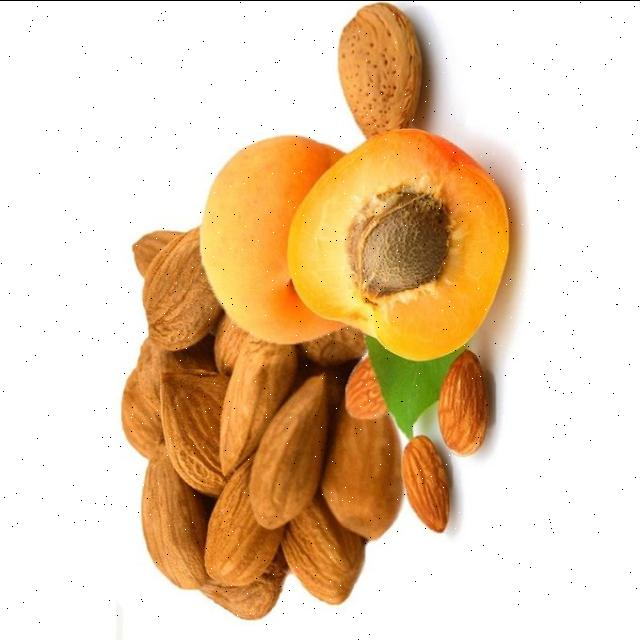Cekirdek: (356, 191, 449, 296)
Kayisi: (289, 129, 509, 360), (200, 136, 343, 344)
